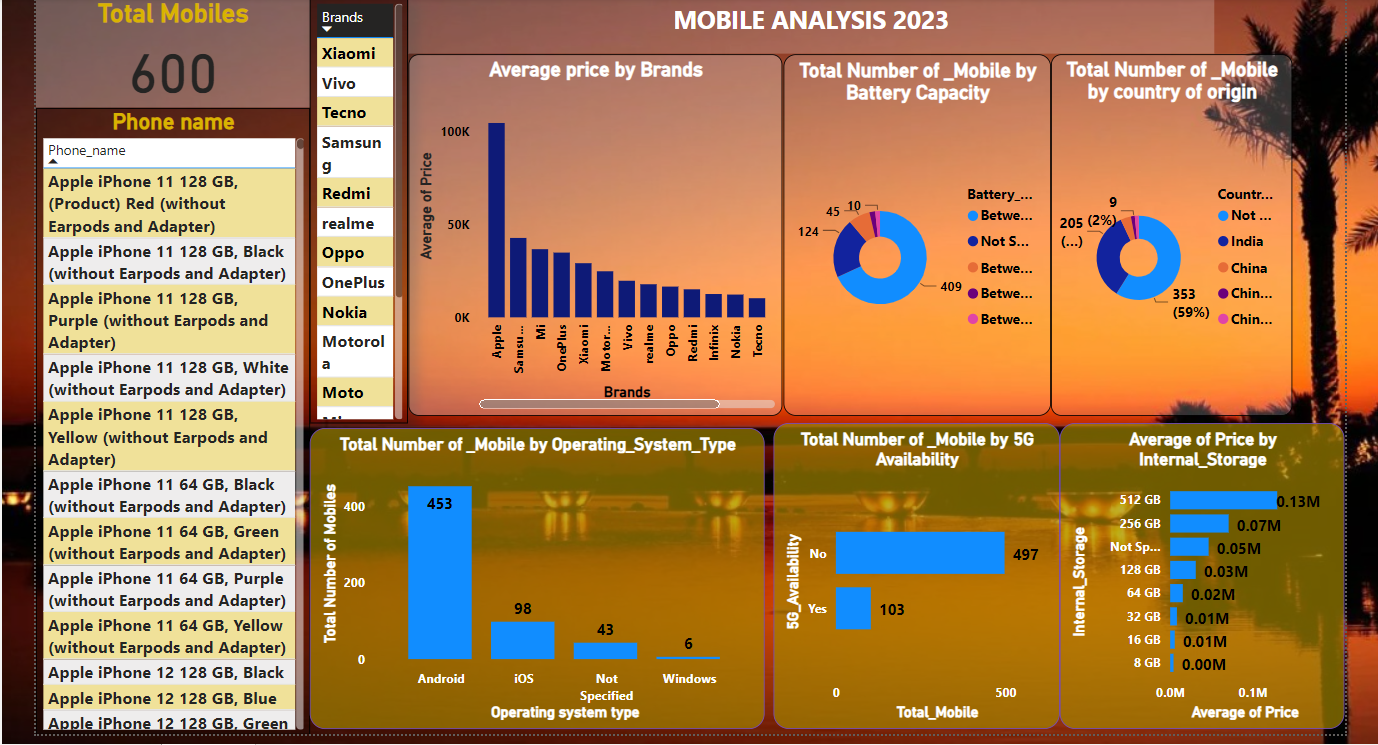

The page's visual inventory and layout, read from the dashboard file:
{"tool":"powerbi","page":{"name":"Page 1","canvas":[1280,720],"ordinal":0},"visuals":[{"type":"card","title":"Total Mobiles","fields":{"Values":["Sum(Mobile Analysis.Total_Mobile)"]},"box":[0,0,268.3,107.1],"z":0},{"type":"tableEx","title":"Phone name","fields":{"Values":["Mobile Analysis.Phone_name"]},"box":[0,107.6,267.7,612.4],"z":1000},{"type":"tableEx","fields":{"Values":["Mobile Analysis.Brands"]},"box":[268.3,0,96,416],"z":2000},{"type":"columnChart","title":" Total Number of _Mobile by Operating_System_Type","fields":{"Category":["Mobile Analysis.Operating_System_Type"],"Y":["Sum(Mobile Analysis.Total_Mobile)"]},"box":[267.7,420.5,445,294.6],"z":3000},{"type":"donutChart","title":" Total Number of _Mobile by Battery Capacity","fields":{"Category":["Mobile Analysis.Battery_Capacity_Range"],"Y":["Sum(Mobile Analysis.Total_Mobile)"]},"box":[739.6,55,261.6,353.3],"z":4000},{"type":"barChart","title":" Total Number of _Mobile by 5G Availability","fields":{"Category":["Mobile Analysis.5G_Availability"],"Y":["Sum(Mobile Analysis.Total_Mobile)"]},"box":[721.2,415.6,279.9,299.5],"z":5000},{"type":"columnChart","title":"Average price  by Brands","fields":{"Y":["Avg(Mobile Analysis.Price)"],"Category":["Mobile Analysis.Brands"]},"box":[364.3,55,375.3,353.3],"z":6000},{"type":"textbox","box":[364.3,0,787.7,54.2],"z":7000},{"type":"donutChart","title":" Total Number of _Mobile by country of origin","fields":{"Y":["Sum(Mobile Analysis.Total_Mobile)"],"Category":["Mobile Analysis.Country_of_Origin"]},"box":[1001.2,56.2,235.9,353.3],"z":7001},{"type":"clusteredBarChart","fields":{"Category":["Mobile Analysis.Internal_Storage"],"Y":["Avg(Mobile Analysis.Price)"]},"box":[1001.2,415.6,278.7,299.5],"z":7002}]}

Visuals, with their boxes in screenshot pixels (x1, y1, x2, y2):
"Total Mobiles" card: (left=39, top=25, right=304, bottom=131)
"Phone name" tableEx: (left=39, top=131, right=303, bottom=735)
tableEx - Mobile Analysis.Brands: (left=304, top=25, right=399, bottom=435)
" Total Number of _Mobile by Operating_System_Type" columnChart: (left=303, top=440, right=742, bottom=730)
" Total Number of _Mobile by Battery Capacity" donutChart: (left=769, top=79, right=1027, bottom=428)
" Total Number of _Mobile by 5G Availability" barChart: (left=751, top=435, right=1027, bottom=730)
"Average price  by Brands" columnChart: (left=399, top=79, right=769, bottom=428)
textbox: (left=399, top=25, right=1175, bottom=79)
" Total Number of _Mobile by country of origin" donutChart: (left=1027, top=81, right=1259, bottom=429)
clusteredBarChart - Mobile Analysis.Internal_Storage x Avg(Mobile Analysis.Price): (left=1027, top=435, right=1302, bottom=730)
